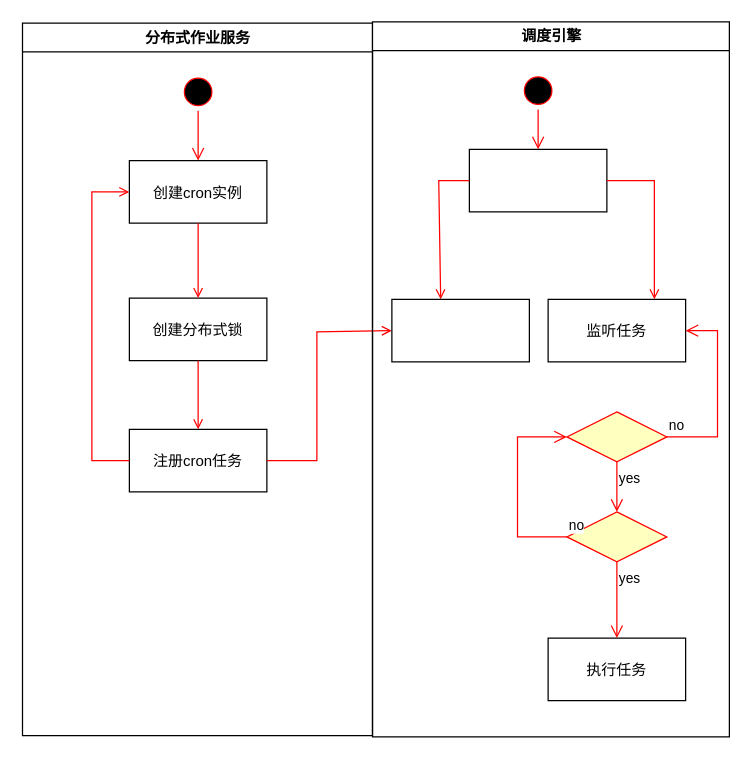
The diagram is 751 pixels wide and 759 high, and some of its shapes have lost their labels. Here are the shapes that lost their labels. From the top down, the box of each, then its label:
(468, 148, 607, 212): 创建调度引擎
(391, 298, 529, 362): 添加任务
(566, 411, 667, 462): 满足条件
(566, 511, 667, 562): 获取锁
